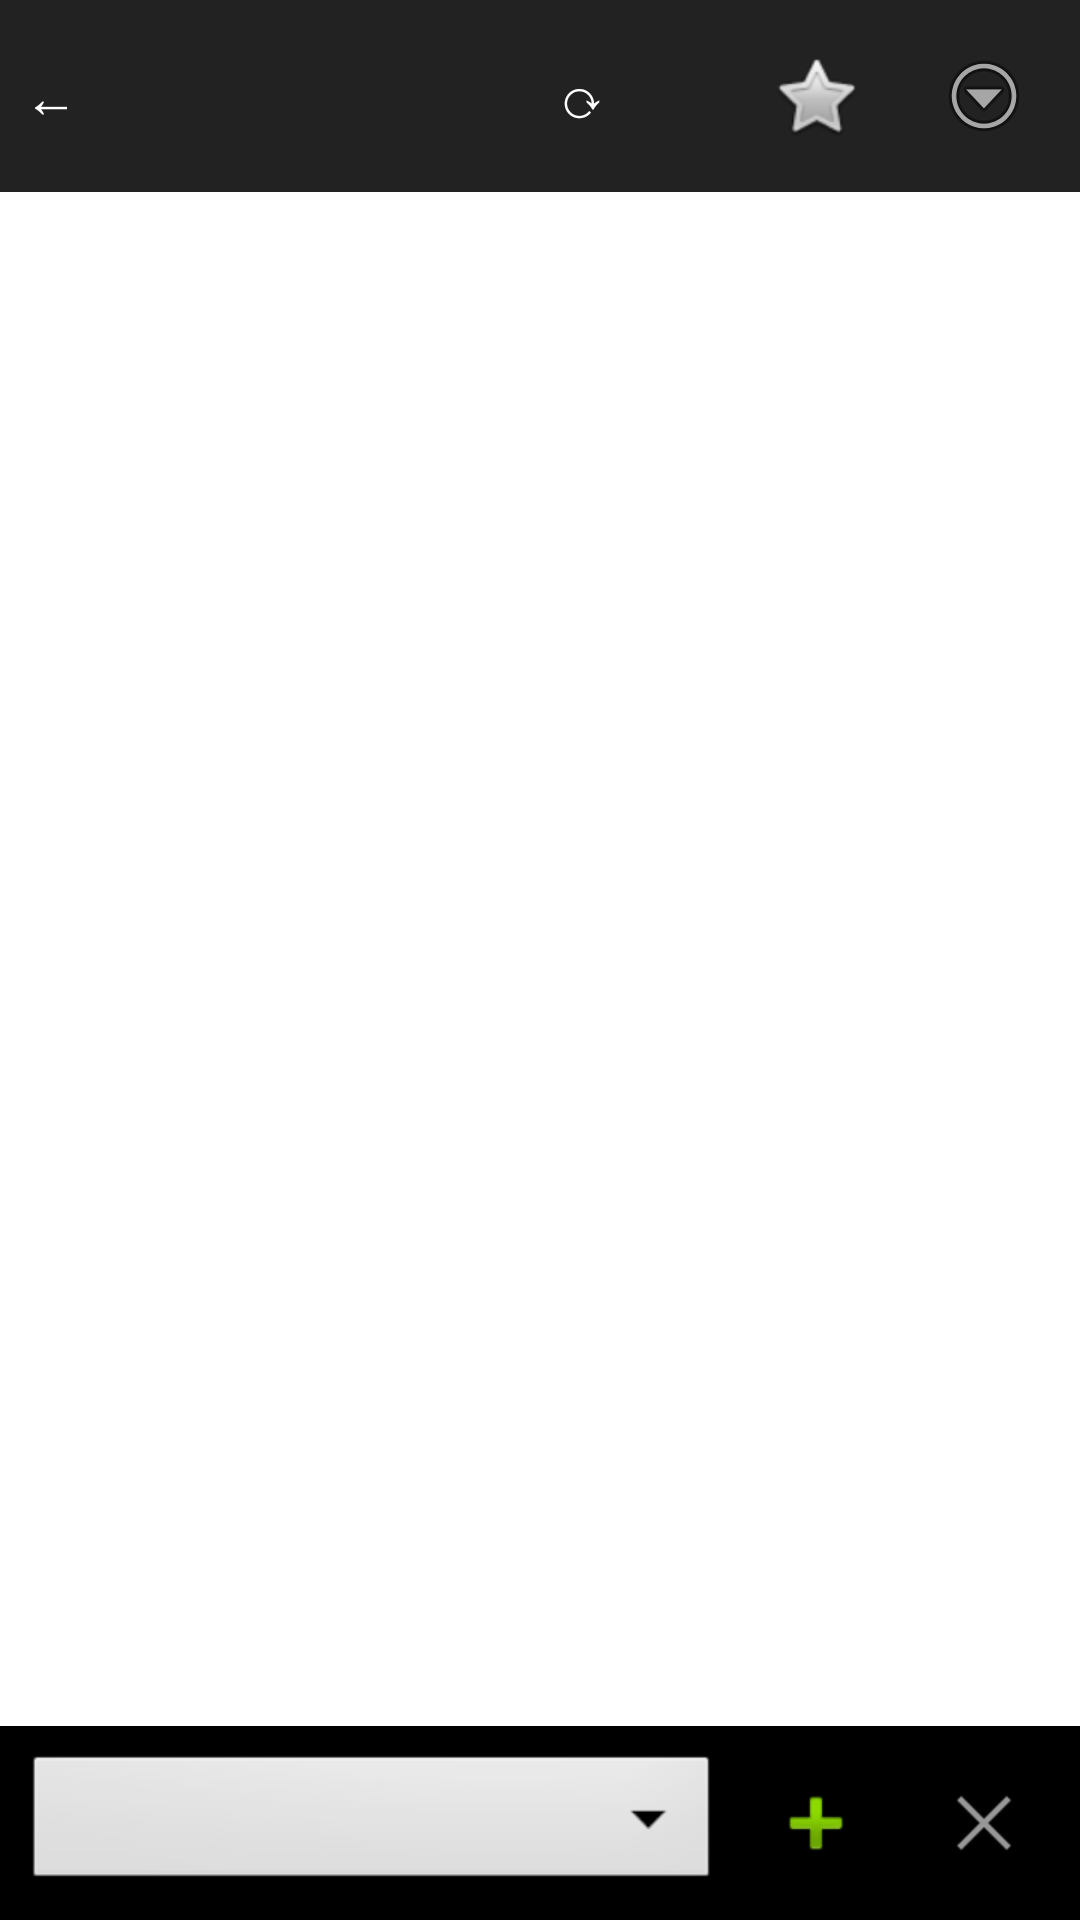

Icons on this 1080w x 1920h Android screen, each with the point to tap as (x,y):
Add new tab: (816,1823)
Bookmark: (817,95)
Close current tab: (984,1823)
Menu: (984,96)
